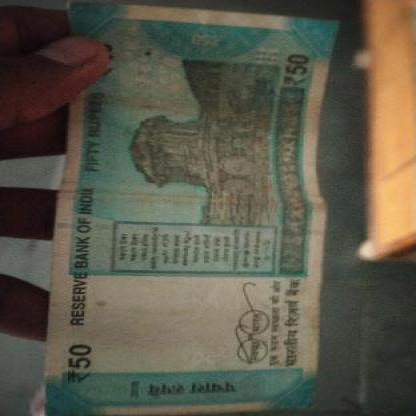New50Back: (63, 0, 318, 416)
